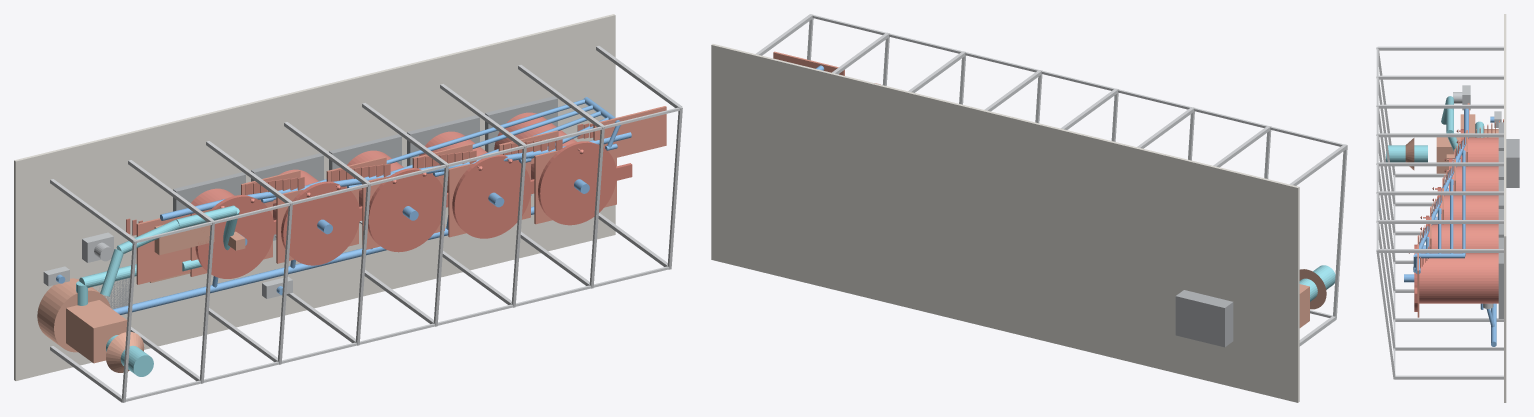
File: adsorption_circuit_concept_v4.glb
3 renders of one model, left to right at view 1: azimuth 30°, elevation 25°; view 2: azimuth 150°, elevation 25°; view 3: azimuth 270°, elevation 25°, orthographic. The views are drawn at different scales.
Parts seen in each view (by area): view 1: FDN_MAIN_SLAB, COL_140_CC_002_CHANNEL, COL_140_CC_001_CHANNEL, COL_140_CC_003_CHANNEL, COL_140_CC_004_CHANNEL, COL_140_CC_005_CHANNEL, AUX_CH_140_CH_001_BASE, PLAT_L5_RIGHT_FEED, PIPE_140_MAIN_001, AUX_WT_140_WT_001, PLAT_L1_LEFT_SERVICE, FDN_140_CC_002 (+30 smaller); view 2: FDN_MAIN_SLAB, FDN_LEFT_PIT, STR_FRAME_AXIS_01_ROOF; view 3: COL_140_CC_001_BODY, COL_140_CC_002_BODY, COL_140_CC_003_BODY, FDN_MAIN_SLAB, COL_140_CC_004_BODY, COL_140_CC_005_BODY, FDN_LEFT_PIT, STR_FRAME_AXIS_01_N_COL, STR_FRAME_AXIS_02_N_COL, STR_FRAME_AXIS_03_N_COL, STR_FRAME_AXIS_04_N_COL, STR_FRAME_AXIS_05_N_COL (+32 smaller).
Part boxes in pixels (x1,y1,x2,y2): FDN_MAIN_SLAB: [14, 14, 615, 380]; COL_140_CC_002_CHANNEL: [452, 154, 531, 238]; COL_140_CC_001_CHANNEL: [538, 141, 616, 225]; COL_140_CC_003_CHANNEL: [368, 168, 442, 252]; COL_140_CC_004_CHANNEL: [281, 181, 359, 265]; COL_140_CC_005_CHANNEL: [195, 195, 274, 278]; AUX_CH_140_CH_001_BASE: [66, 300, 127, 363]; PLAT_L5_RIGHT_FEED: [593, 106, 666, 158]; PIPE_140_MAIN_001: [113, 206, 534, 314]; AUX_WT_140_WT_001: [37, 278, 110, 352]; PLAT_L1_LEFT_SERVICE: [136, 214, 190, 284]; FDN_140_CC_002: [407, 115, 479, 166]; FDN_MAIN_SLAB: [711, 44, 1299, 402]; FDN_LEFT_PIT: [1175, 290, 1233, 347]; STR_FRAME_AXIS_01_ROOF: [1333, 144, 1347, 317]; COL_140_CC_001_BODY: [1419, 253, 1498, 303]; COL_140_CC_002_BODY: [1429, 224, 1498, 248]; COL_140_CC_003_BODY: [1441, 195, 1498, 224]; FDN_MAIN_SLAB: [1504, 14, 1506, 402]; COL_140_CC_004_BODY: [1452, 166, 1498, 191]; COL_140_CC_005_BODY: [1464, 137, 1498, 162]; FDN_LEFT_PIT: [1506, 139, 1519, 187]; STR_FRAME_AXIS_01_N_COL: [1377, 46, 1503, 50]; STR_FRAME_AXIS_02_N_COL: [1377, 75, 1503, 79]; STR_FRAME_AXIS_03_N_COL: [1377, 104, 1503, 108]; STR_FRAME_AXIS_04_N_COL: [1377, 133, 1503, 137]; STR_FRAME_AXIS_05_N_COL: [1377, 162, 1503, 166].
Size of the model in its own units: 50 by 17.5 by 13.62.
